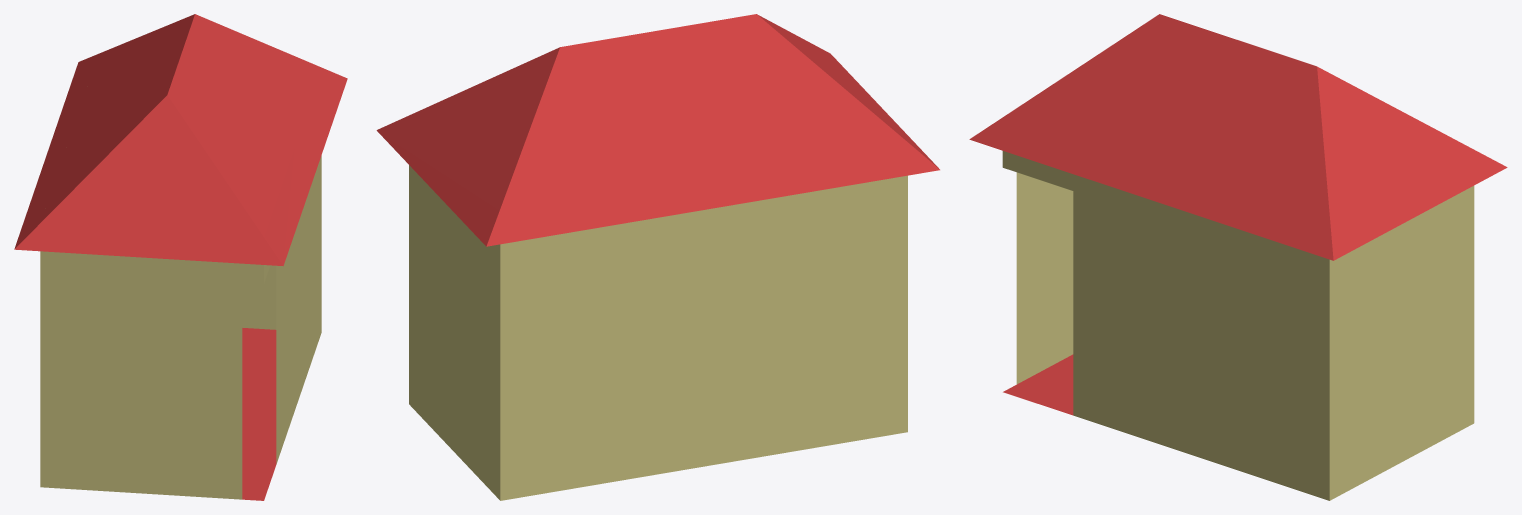
The picture shows the model from 3 angles, left to right: view 1: azimuth 30°, elevation 25°; view 2: azimuth 150°, elevation 25°; view 3: azimuth 270°, elevation 25°; orthographic projection. The views are drawn at different scales.
Parts seen in each view (by area): view 1: group_5, group_3, group_4, group_6; view 2: group_5, group_3, group_4; view 3: group_5, group_3, group_4, group_6.
Part boxes in pixels (left/top/right/bottom): group_5: left=40, top=155, right=321, bottom=499; group_3: left=16, top=14, right=347, bottom=265; group_4: left=14, top=54, right=295, bottom=266; group_6: left=242, top=328, right=276, bottom=500; group_5: left=409, top=165, right=907, bottom=500; group_3: left=377, top=14, right=939, bottom=245; group_4: left=377, top=55, right=939, bottom=246; group_5: left=1002, top=151, right=1474, bottom=500; group_3: left=970, top=14, right=1472, bottom=260; group_4: left=969, top=117, right=1507, bottom=260; group_6: left=1003, top=354, right=1073, bottom=415.
Size of the model in its own units: 15.98 by 16.94 by 12.75.
